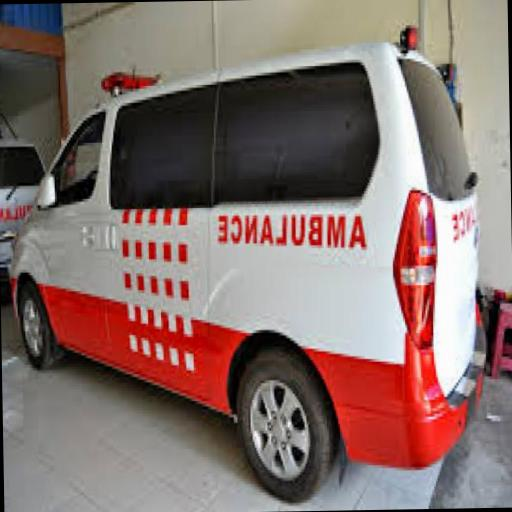Police car: (3, 24, 492, 505)
